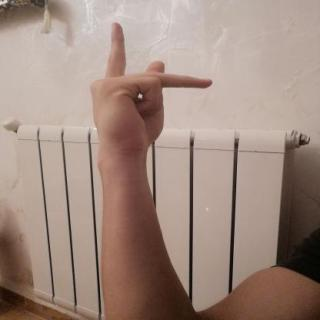DHAA: (78, 16, 222, 163)
